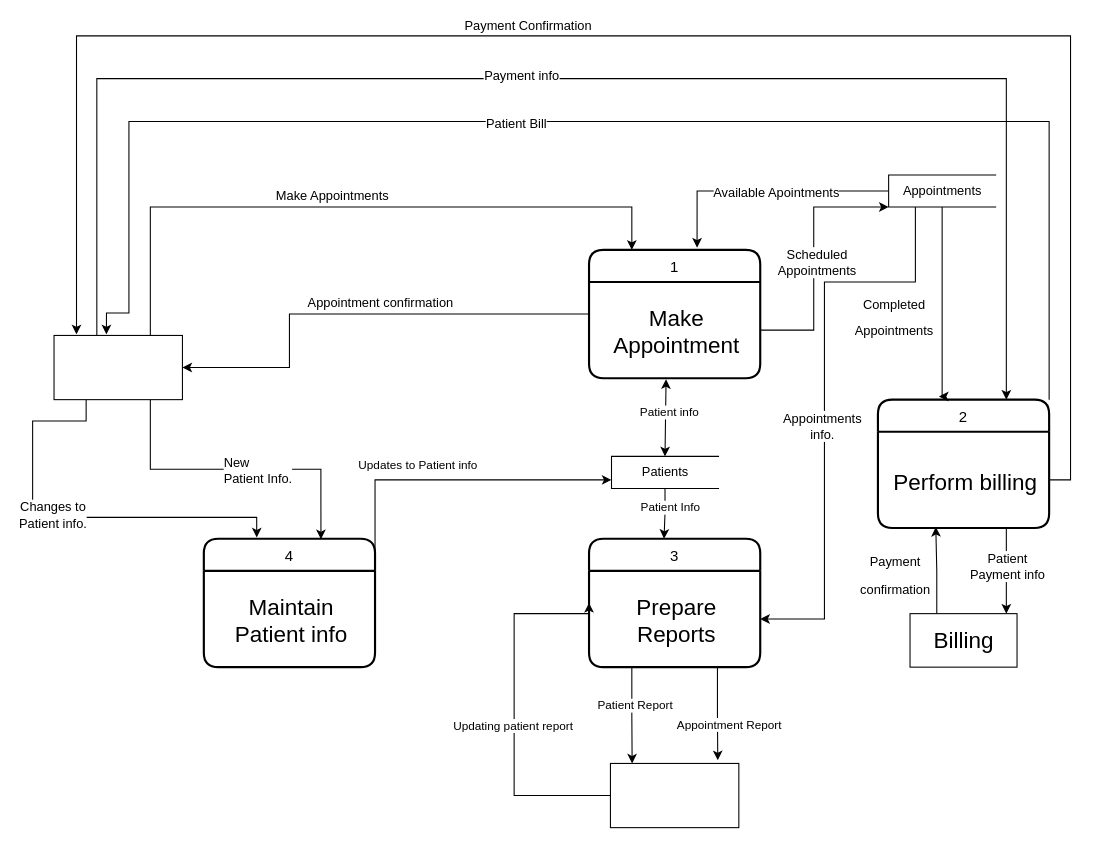
Image size: 1098x846. Some labels were removed from this diagram. The shapes that lost their labels are listed below. From the top down, each one's centre as x and y in pixels, then its label:
At (x=117, y=367): "Patient".
At (x=674, y=795): "Doctor".
